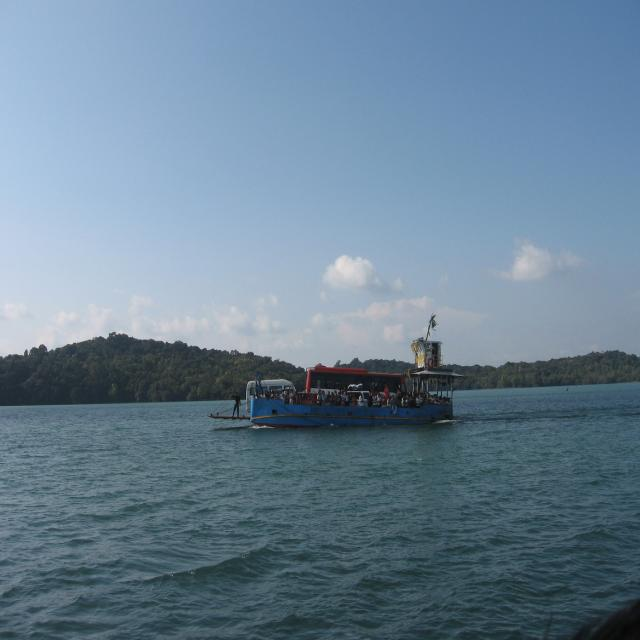fishing boat: (206, 320, 476, 440)
